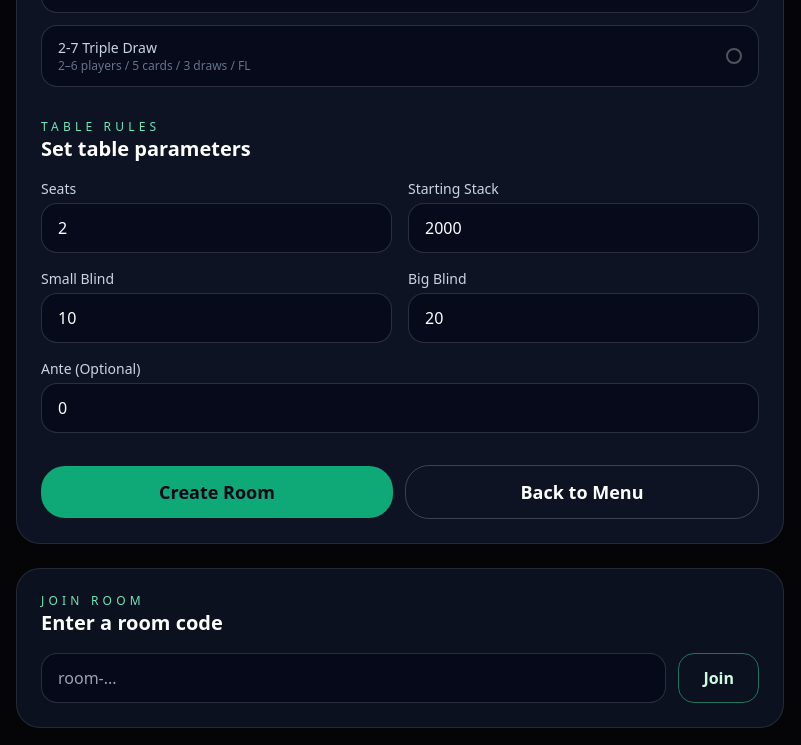
Test: FriendMatchSetupScreen › rejects equal or older authoritative sequences
(page scrolled)
Step 1. Click the button "Create Room" → (217,492), box left=41, top=466, right=393, bottom=518
(page scrolled)
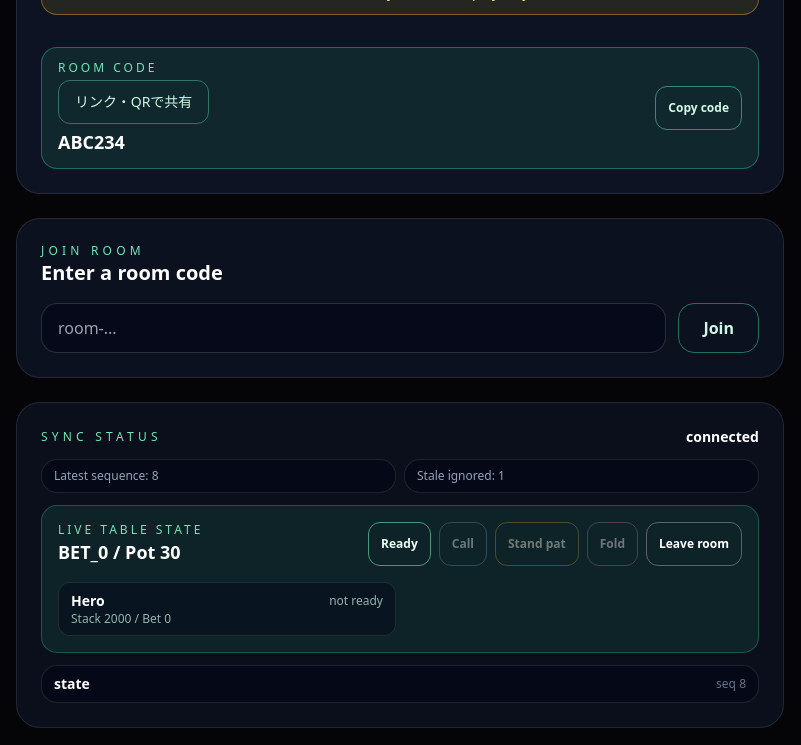
Expected: the text "BET_0 / Pot 30" is shown, left=58, top=540, right=181, bottom=564
